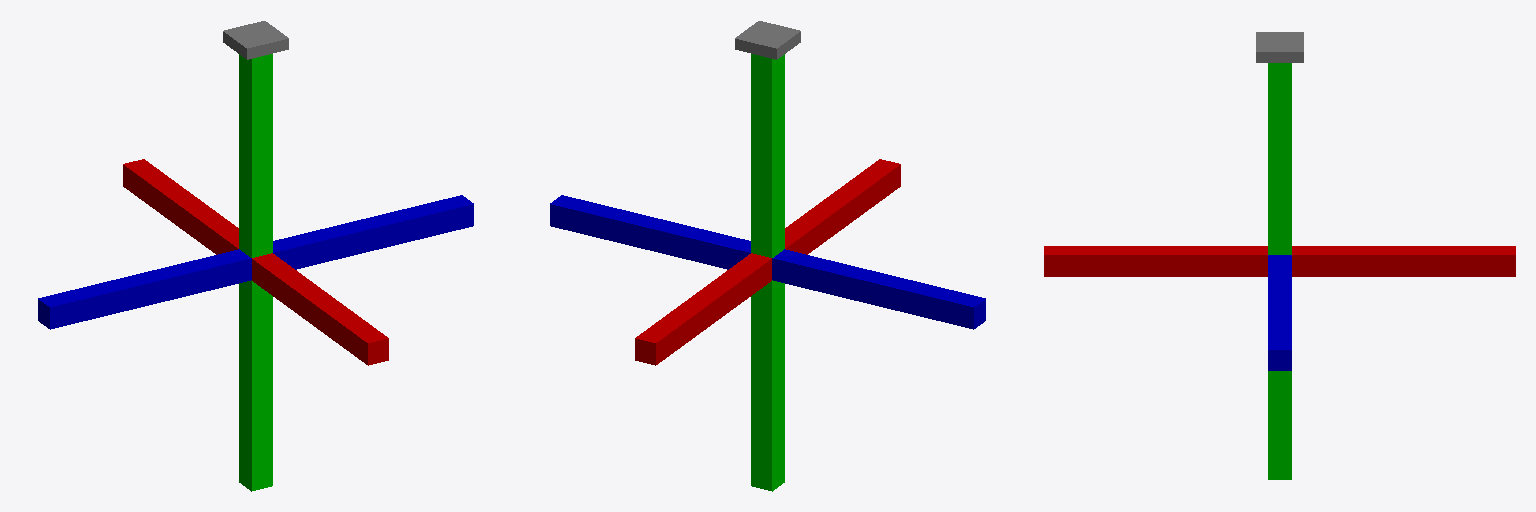
The robot description file, URDF, robot "gantry":
<?xml version="1.0"?>
<robot name="gantry">
  <!-- World 링크 -->
  <link name="world"/>

  <!-- X축 이동 -->
  <link name="x_axis">
    <visual>
      <geometry>
        <box size="2.0 0.1 0.1"/>
      </geometry>
      <material name="blue">
        <color rgba="0 0 0.8 1"/>
      </material>
    </visual>
    <collision>
      <geometry>
        <box size="2.0 0.1 0.1"/>
      </geometry>
    </collision>
    <inertial>
      <mass value="10"/>
      <inertia ixx="1" ixy="0" ixz="0" iyy="1" iyz="0" izz="1"/>
    </inertial>
  </link>

  <!-- Y축 이동 -->
  <link name="y_axis">
    <visual>
      <geometry>
        <box size="0.1 2.0 0.1"/>
      </geometry>
      <material name="red">
        <color rgba="0.8 0 0 1"/>
      </material>
    </visual>
    <collision>
      <geometry>
        <box size="0.1 2.0 0.1"/>
      </geometry>
    </collision>
    <inertial>
      <mass value="10"/>
      <inertia ixx="1" ixy="0" ixz="0" iyy="1" iyz="0" izz="1"/>
    </inertial>
  </link>

  <!-- Z축 이동 -->
  <link name="z_axis">
    <visual>
      <geometry>
        <box size="0.1 0.1 2.0"/>
      </geometry>
      <material name="green">
        <color rgba="0 0.8 0 1"/>
      </material>
    </visual>
    <collision>
      <geometry>
        <box size="0.1 0.1 2.0"/>
      </geometry>
    </collision>
    <inertial>
      <mass value="10"/>
      <inertia ixx="1" ixy="0" ixz="0" iyy="1" iyz="0" izz="1"/>
    </inertial>
  </link>

  <!-- 로봇 마운트 -->
  <link name="robot_mount">
    <visual>
      <geometry>
        <box size="0.2 0.2 0.05"/>
      </geometry>
      <material name="gray">
        <color rgba="0.5 0.5 0.5 1"/>
      </material>
    </visual>
    <collision>
      <geometry>
        <box size="0.2 0.2 0.05"/>
      </geometry>
    </collision>
    <inertial>
      <mass value="1"/>
      <inertia ixx="0.1" ixy="0" ixz="0" iyy="0.1" iyz="0" izz="0.1"/>
    </inertial>
  </link>

  <!-- X축 관절 -->
  <joint name="x_joint" type="prismatic">
    <parent link="world"/>
    <child link="x_axis"/>
    <origin xyz="0 0 2.0"/>
    <axis xyz="1 0 0"/>
    <limit effort="1000" lower="-2.0" upper="2.0" velocity="1.0"/>
    <dynamics damping="0.0" friction="0.0"/>
  </joint>

  <!-- Y축 관절 -->
  <joint name="y_joint" type="prismatic">
    <parent link="x_axis"/>
    <child link="y_axis"/>
    <origin xyz="0 0 0"/>
    <axis xyz="0 1 0"/>
    <limit effort="1000" lower="-2.0" upper="2.0" velocity="1.0"/>
    <dynamics damping="0.0" friction="0.0"/>
  </joint>

  <!-- Z축 관절 -->
  <joint name="z_joint" type="prismatic">
    <parent link="y_axis"/>
    <child link="z_axis"/>
    <origin xyz="0 0 0"/>
    <axis xyz="0 0 1"/>
    <limit effort="1000" lower="-1.0" upper="1.0" velocity="1.0"/>
    <dynamics damping="0.0" friction="0.0"/>
  </joint>

  <!-- 로봇 마운트 조인트 -->
  <joint name="mount_joint" type="fixed">
    <parent link="z_axis"/>
    <child link="robot_mount"/>
    <origin xyz="0 0 1.0" rpy="0 0 0"/>
  </joint>
</robot> 

--- Render facts (derived) ---
Views: 3 orthographic renders of the robot side by side, from view 1: azimuth 30°, elevation 25°; view 2: azimuth 150°, elevation 25°; view 3: azimuth 270°, elevation 25°.
Robot: gantry — 5 links, 4 joints (3 prismatic, 1 fixed); root link world; default pose: all joints at 0.
Visible links, largest first — view 1: x_axis, z_axis, y_axis, robot_mount; view 2: x_axis, z_axis, y_axis, robot_mount; view 3: y_axis, z_axis, x_axis, robot_mount.
Boxes of the visible links, x1=… form: x_axis: x1=38, y1=195, x2=473, y2=329; z_axis: x1=239, y1=54, x2=272, y2=491; y_axis: x1=123, y1=159, x2=388, y2=365; robot_mount: x1=223, y1=21, x2=288, y2=59; x_axis: x1=550, y1=195, x2=985, y2=329; z_axis: x1=751, y1=54, x2=784, y2=491; y_axis: x1=635, y1=159, x2=900, y2=365; robot_mount: x1=735, y1=21, x2=800, y2=59; y_axis: x1=1044, y1=246, x2=1515, y2=276; z_axis: x1=1268, y1=63, x2=1291, y2=479; x_axis: x1=1268, y1=255, x2=1291, y2=370; robot_mount: x1=1256, y1=32, x2=1303, y2=62.
Bounding box of the posed robot: 2 × 2 × 2.02 m (x, y, z).
Geometry: primitives only (box / cylinder / sphere), no mesh files.
